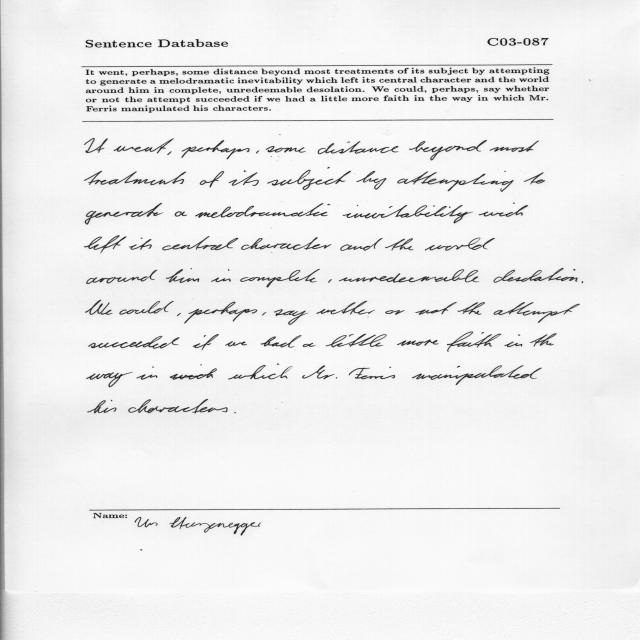word: (412, 365, 542, 385), (397, 171, 514, 192), (343, 205, 473, 223), (195, 203, 331, 218), (267, 167, 351, 190), (339, 270, 479, 283), (494, 302, 580, 323), (86, 203, 164, 224), (184, 302, 257, 324), (409, 140, 487, 160), (447, 332, 520, 352), (240, 269, 320, 287), (85, 171, 186, 185), (87, 367, 157, 387), (129, 399, 228, 413), (182, 140, 250, 159), (494, 268, 578, 283), (241, 237, 332, 250), (163, 236, 239, 251), (89, 336, 179, 348), (318, 141, 398, 154), (228, 364, 292, 380), (87, 270, 157, 284), (425, 238, 495, 251), (114, 139, 174, 154), (317, 301, 376, 315), (326, 334, 387, 347), (85, 235, 127, 253), (170, 364, 217, 380), (504, 333, 557, 347), (479, 202, 528, 217), (119, 301, 174, 314), (357, 171, 387, 190), (340, 238, 383, 251), (349, 367, 395, 379), (415, 302, 457, 315), (274, 309, 308, 325), (490, 141, 539, 152), (261, 335, 302, 348), (166, 268, 199, 283), (303, 366, 338, 380), (229, 170, 259, 186), (85, 300, 113, 315), (193, 334, 219, 350), (200, 171, 224, 187), (386, 238, 414, 251), (88, 400, 116, 413), (84, 138, 108, 153), (458, 302, 485, 315), (397, 339, 439, 346), (129, 238, 152, 250), (211, 269, 231, 282), (524, 173, 545, 185), (266, 146, 306, 152), (225, 341, 247, 347), (386, 310, 405, 315), (175, 212, 187, 217), (303, 343, 315, 347), (167, 151, 172, 155), (328, 279, 332, 283), (262, 312, 266, 316), (257, 150, 260, 154), (177, 313, 181, 316), (204, 335, 206, 337), (582, 281, 583, 283), (234, 412, 236, 413)
